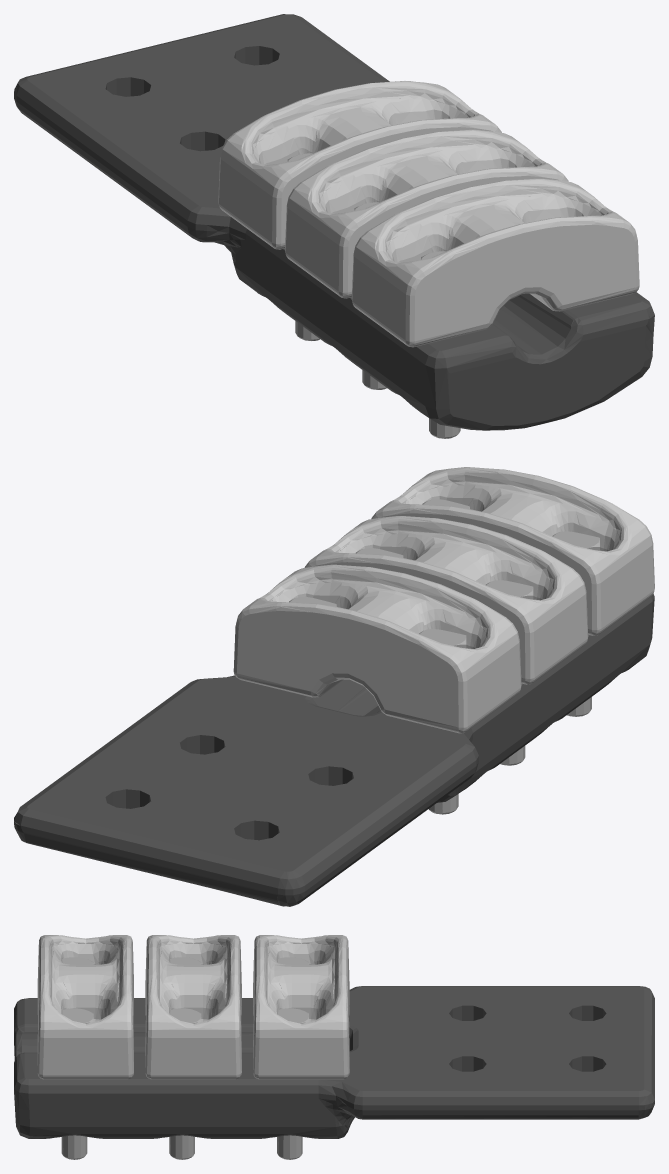
File: ensamble_conector_a.gltf
3 renders of one model, top to bottom at view 1: azimuth 30°, elevation 25°; view 2: azimuth 150°, elevation 25°; view 3: azimuth 270°, elevation 25°, orthographic. The views are drawn at different scales.
Visible parts, largest first — view 1: Rc2P4A, Pisacable M45 V2, Tornillo 3-8 2; view 2: Rc2P4A, Pisacable M45 V2, Tornillo 3-8 2; view 3: Rc2P4A, Pisacable M45 V2, Tornillo 3-8 2.
Part boxes in pixels (x1=…): Rc2P4A: x1=14, y1=14, x2=654, y2=430; Pisacable M45 V2: x1=218, y1=81, x2=639, y2=347; Tornillo 3-8 2: x1=287, y1=153, x2=460, y2=438; Rc2P4A: x1=14, y1=594, x2=654, y2=906; Pisacable M45 V2: x1=233, y1=467, x2=654, y2=733; Tornillo 3-8 2: x1=289, y1=499, x2=599, y2=814; Rc2P4A: x1=14, y1=986, x2=654, y2=1138; Pisacable M45 V2: x1=37, y1=935, x2=349, y2=1079; Tornillo 3-8 2: x1=61, y1=957, x2=308, y2=1159.
Bounding box in the file's own units: 2.25 × 1.55 × 5.35.
3 materials, 2 textured.
